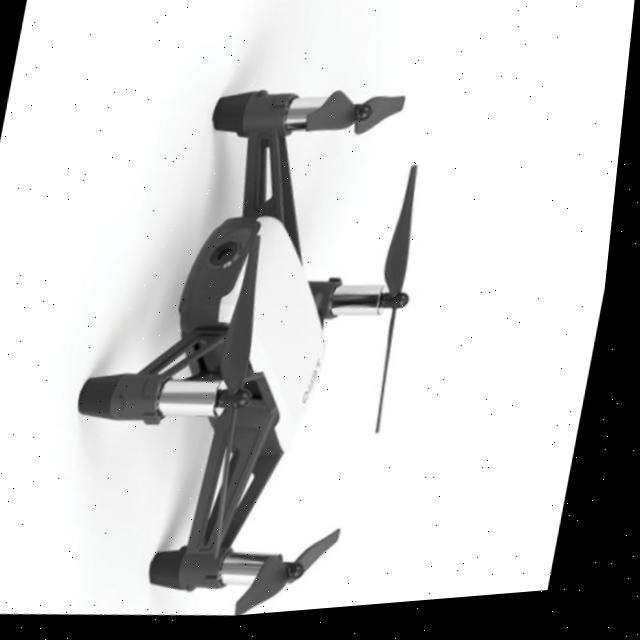drones: (71, 57, 462, 632)
